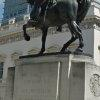Statue: (13, 2, 90, 56)
